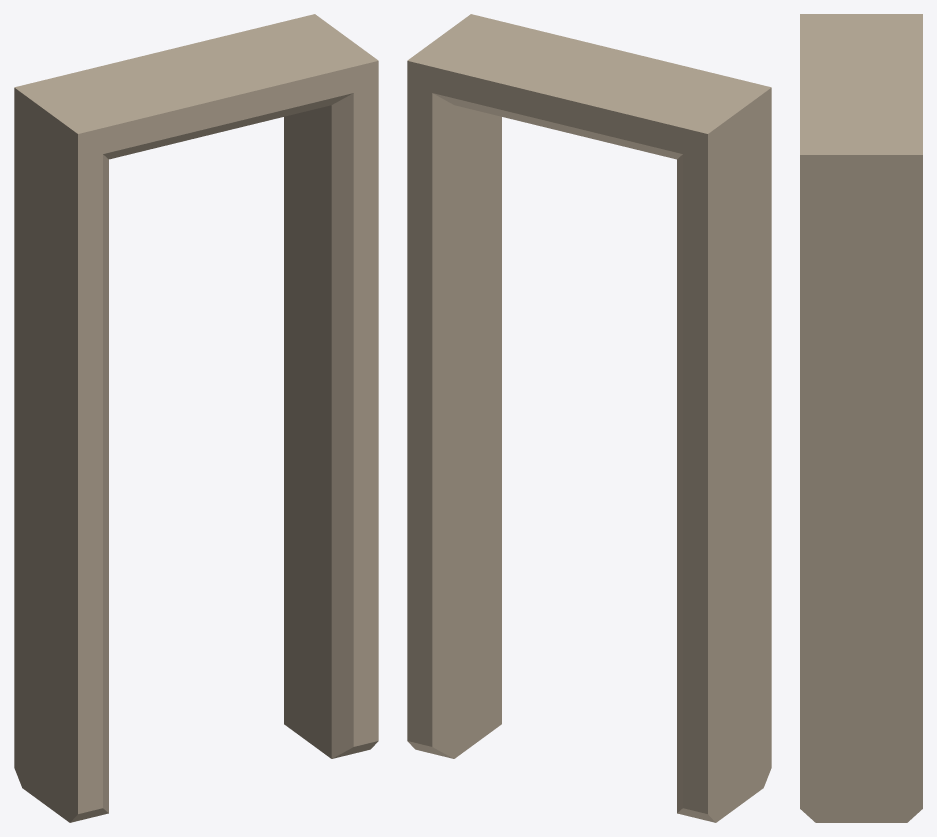
Rendered from 3dcodebench_DoorCasing_seed0.glb.
3 renders of one model, left to right at view 1: azimuth 30°, elevation 25°; view 2: azimuth 150°, elevation 25°; view 3: azimuth 270°, elevation 25°, orthographic. The views are drawn at different scales.
Visible parts, largest first — view 1: object; view 2: object; view 3: object.
Part boxes in pixels (x1,y1,x2,y2): object: (14, 14, 378, 822); object: (407, 14, 771, 822); object: (800, 14, 922, 822).
Bounding box in the file's own units: 1.09 × 2.4 × 0.3995.
